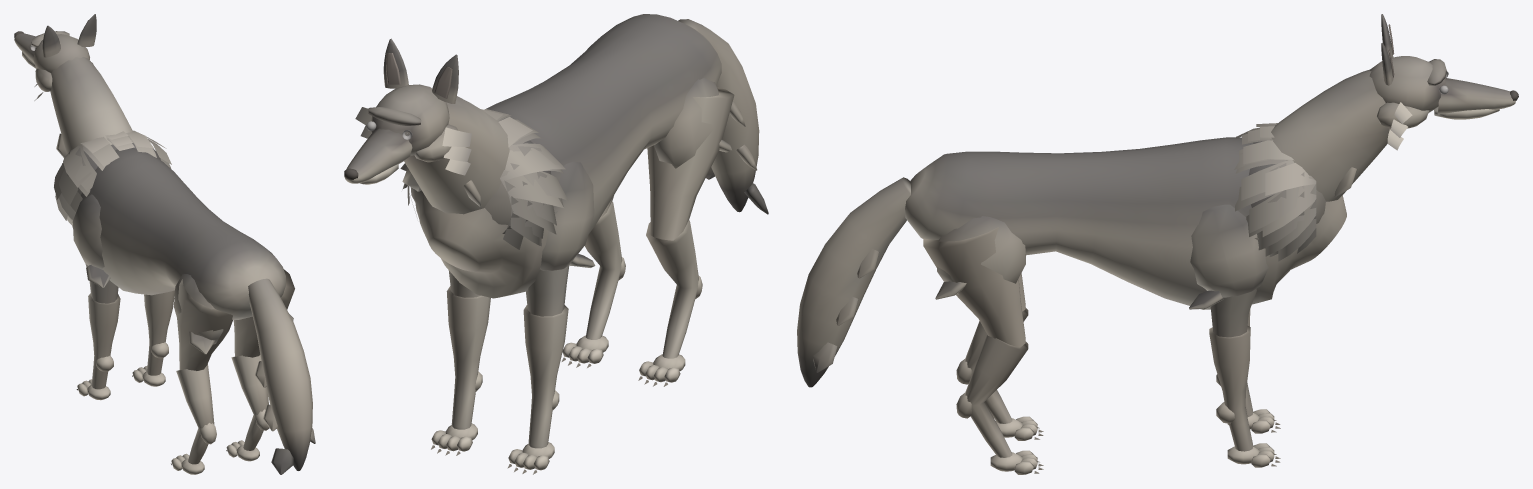
File: wolf.glb
3 renders of one model, left to right at view 1: azimuth 30°, elevation 25°; view 2: azimuth 150°, elevation 25°; view 3: azimuth 270°, elevation 25°, orthographic. The views are drawn at different scales.
Parts seen in each view (by area): view 1: body, head, tail, hind_lower_1, hind_1, lower_1, hind_lower_0, lower_0, hind_0, leg_1; view 2: body, head, tail, hind_1, lower_1, lower_0, hind_lower_1, hind_lower_0, leg_1; view 3: body, head, tail, hind_0, hind_lower_0, lower_0, hind_lower_1, leg_0, lower_1.
Part boxes in pixels (bbox=[...]): body: bbox=[54, 130, 293, 354]; head: bbox=[14, 14, 132, 157]; tail: bbox=[248, 278, 315, 474]; hind_lower_1: bbox=[171, 364, 216, 474]; hind_1: bbox=[176, 279, 232, 370]; lower_1: bbox=[76, 293, 120, 400]; hind_lower_0: bbox=[226, 355, 269, 461]; lower_0: bbox=[132, 290, 174, 386]; hind_0: bbox=[233, 269, 294, 357]; leg_1: bbox=[75, 212, 118, 303]; body: bbox=[400, 14, 731, 298]; head: bbox=[344, 38, 509, 214]; tail: bbox=[678, 19, 768, 214]; hind_1: bbox=[647, 87, 734, 241]; lower_1: bbox=[507, 305, 568, 474]; lower_0: bbox=[431, 286, 490, 455]; hind_lower_1: bbox=[638, 220, 702, 386]; hind_lower_0: bbox=[561, 201, 625, 367]; leg_1: bbox=[526, 211, 569, 316]; body: bbox=[905, 123, 1346, 309]; head: bbox=[1263, 14, 1518, 201]; tail: bbox=[797, 177, 910, 387]; hind_0: bbox=[923, 227, 1025, 347]; hind_lower_0: bbox=[956, 334, 1043, 474]; lower_0: bbox=[1209, 326, 1280, 467]; hind_lower_1: bbox=[956, 307, 1043, 440]; leg_0: bbox=[1210, 237, 1258, 337]; lower_1: bbox=[1216, 309, 1280, 433].
Bounding box in the file's own units: 0.4121 × 1.17 × 1.8.
